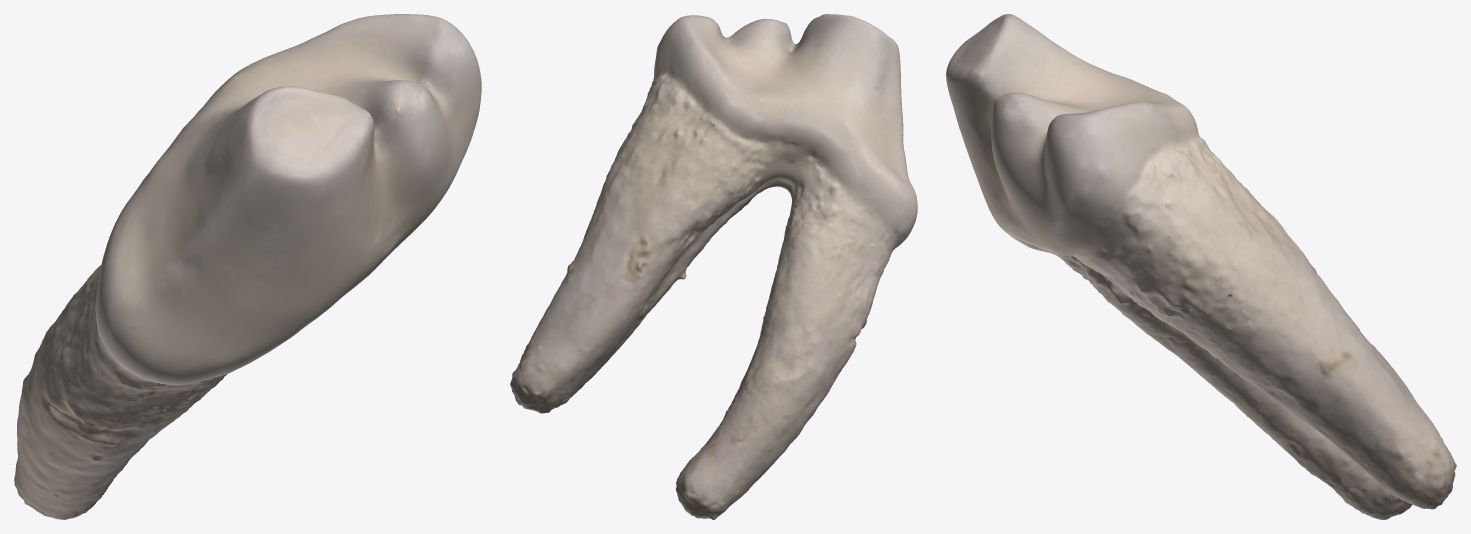
The picture shows the model from 3 angles, left to right: view 1: azimuth 30°, elevation 25°; view 2: azimuth 150°, elevation 25°; view 3: azimuth 270°, elevation 25°; orthographic projection. The views are drawn at different scales.
Visible parts, largest first — view 1: P4_li_unten_Hund_2.001; view 2: P4_li_unten_Hund_2.001; view 3: P4_li_unten_Hund_2.001.
Boxes of the visible parts, x1,y1,x2,y2 form: P4_li_unten_Hund_2.001: (14,14,481,519); P4_li_unten_Hund_2.001: (510,14,917,519); P4_li_unten_Hund_2.001: (946,14,1456,519).
Bounding box in the file's own units: 1234 × 1748 × 1627.
Materials: 1 (1 with a texture image).
